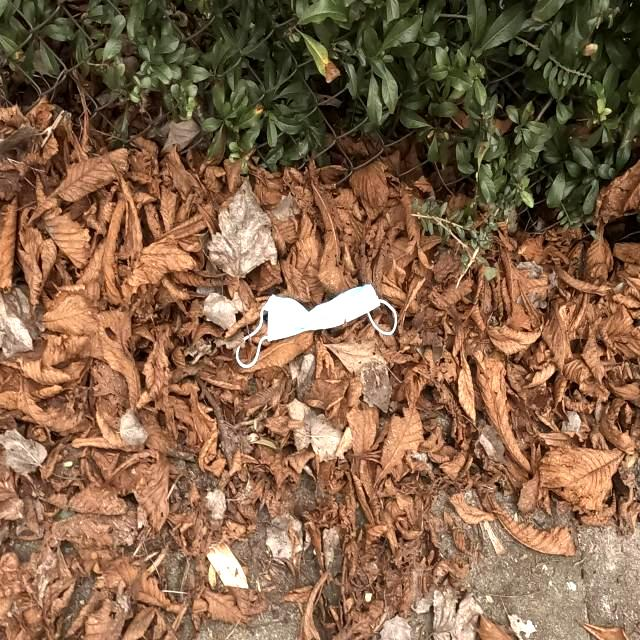Mask: (234, 282, 400, 368)
